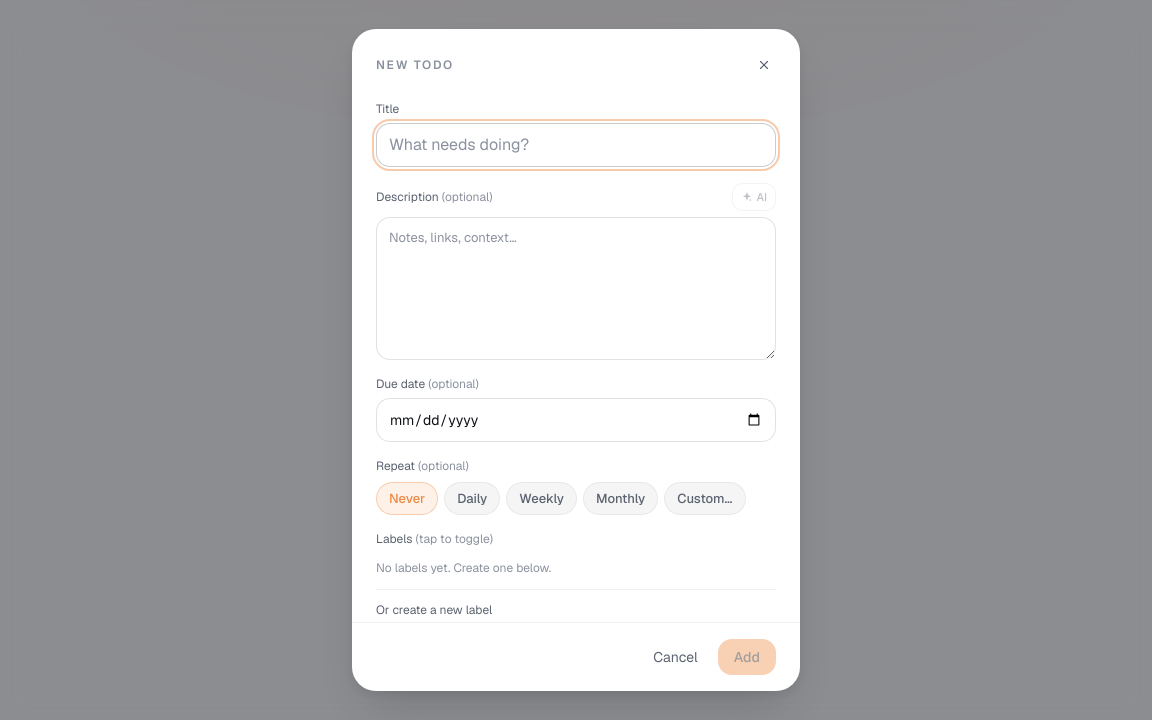
Test: <TodoModal> › shows a generic AI error when the fetch throws
This screenshot has width=1152, height=720.
Type "x" into the field with placeholder "What needs doing?" at [576, 145], box [376, 123, 776, 167]
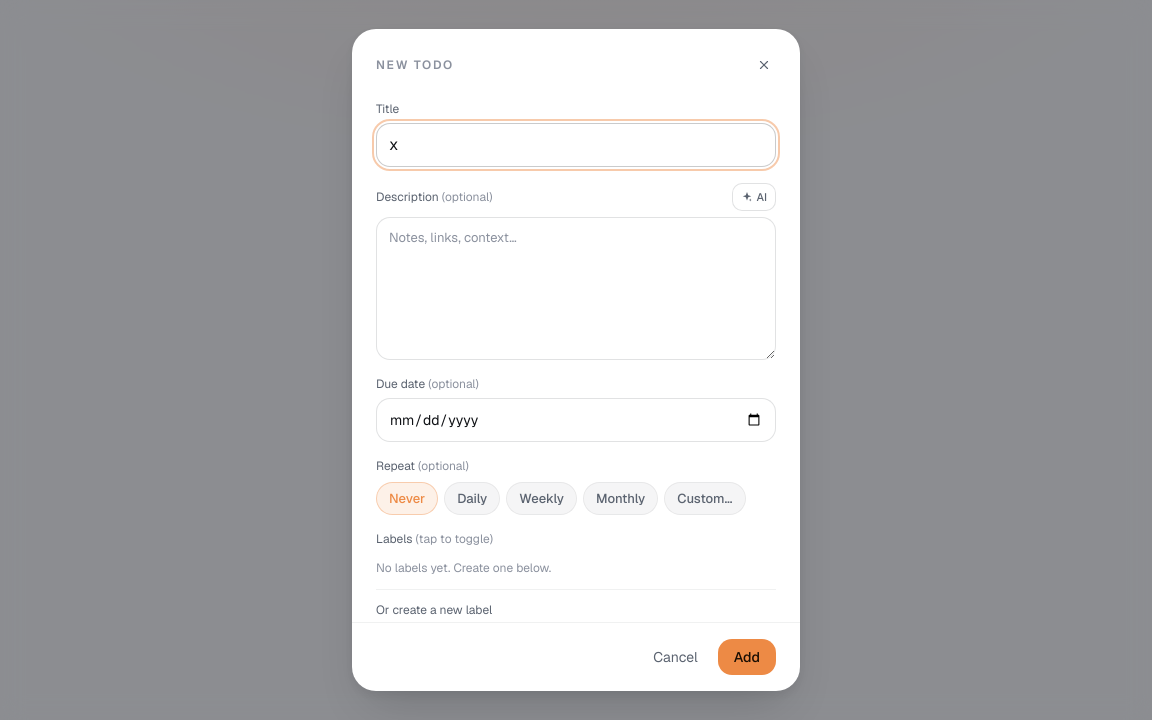
Click the button with aria-label "generate description with ai" at [754, 197], box [732, 183, 776, 211]
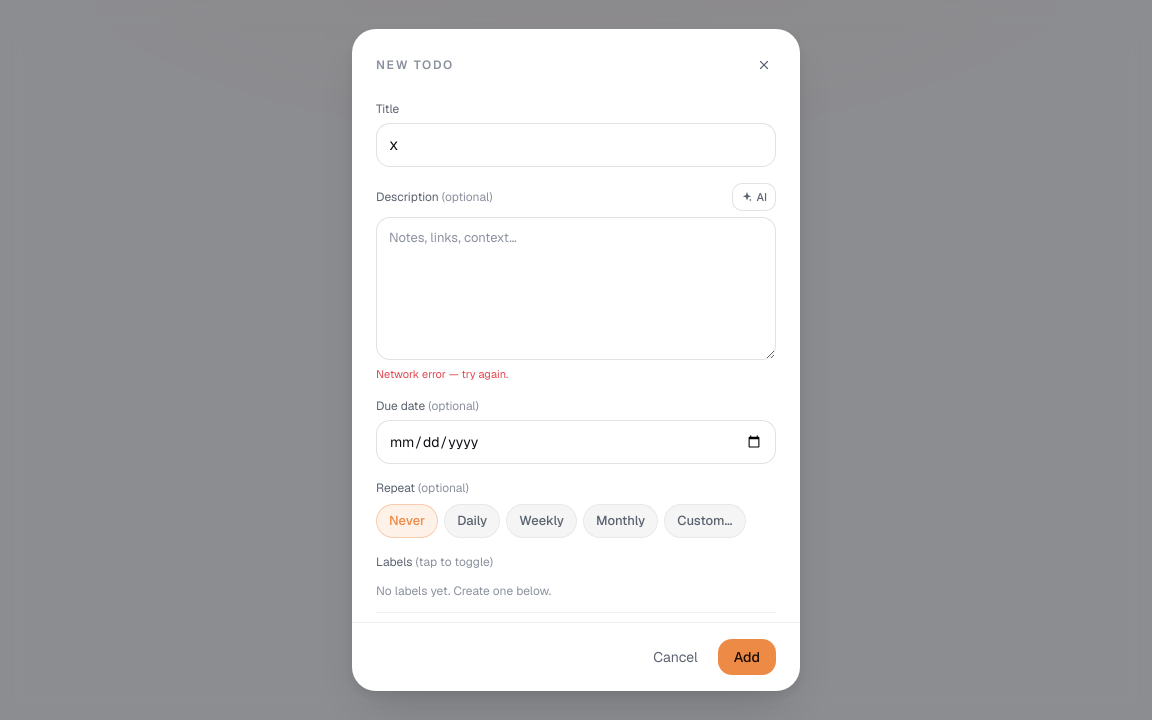
Expected: the text "Network error — try again." is shown, [376, 367, 508, 381]
